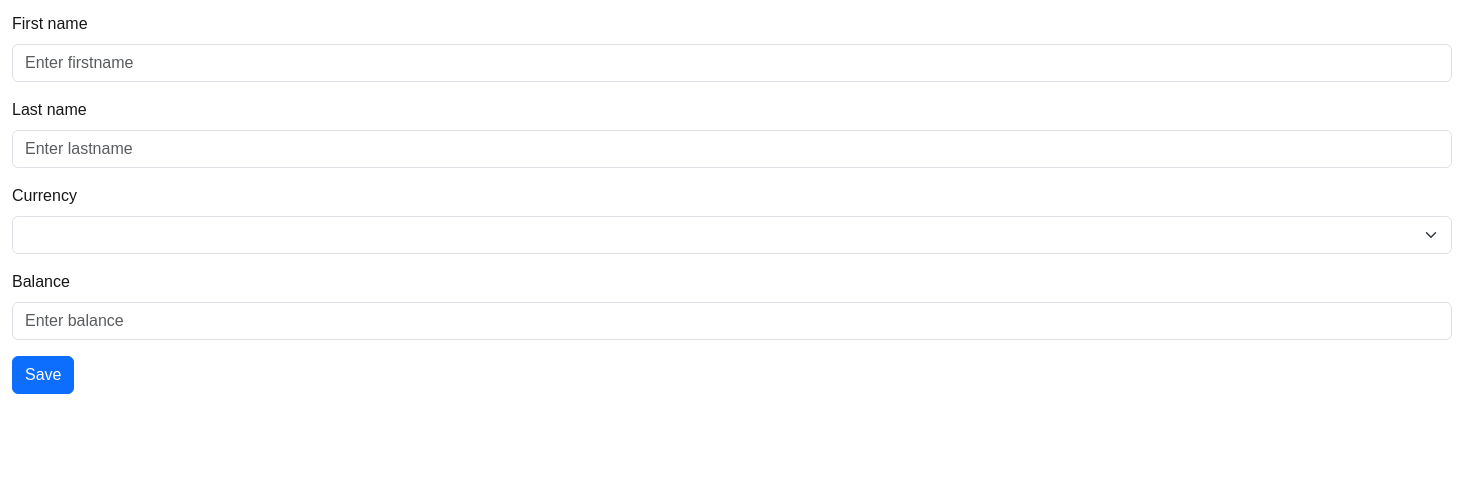
Scenario: AccountForm › show validation errors with empty input
Click the button "Save": (43, 375) x1=12 y1=356 x2=74 y2=394
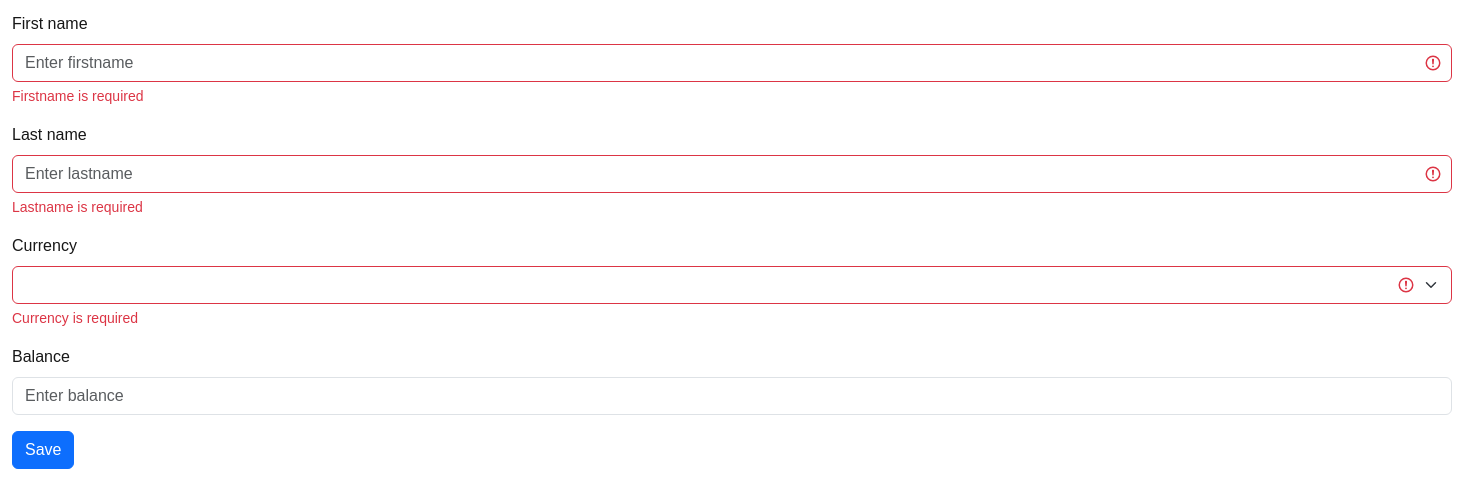
Now the text "Firstname is required" is shown, box x1=12 y1=88 x2=144 y2=104
Now the text "Lastname is required" is shown, box x1=12 y1=199 x2=143 y2=215
Now the text "Currency is required" is shown, box x1=12 y1=310 x2=138 y2=326
